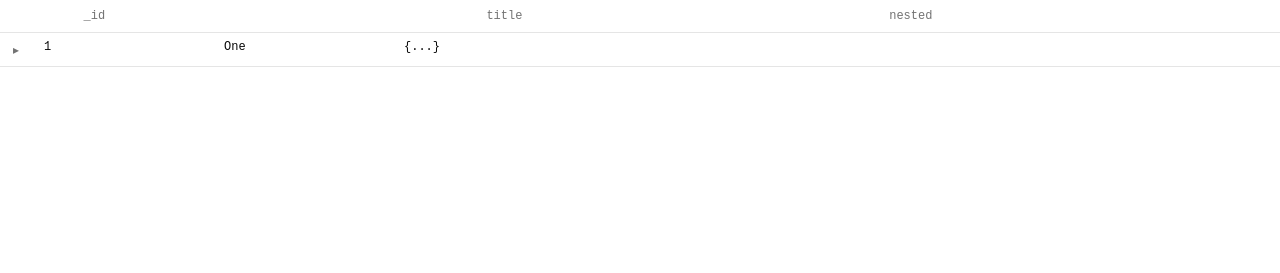
Test: TableView › expands a row to show document details
The width and height of the screenshot is (1280, 273).
What coordinates should you click on to do the following:
click the text "One"
I would click on:
 (235, 47)
Its box is 212,33 -> 392,66.
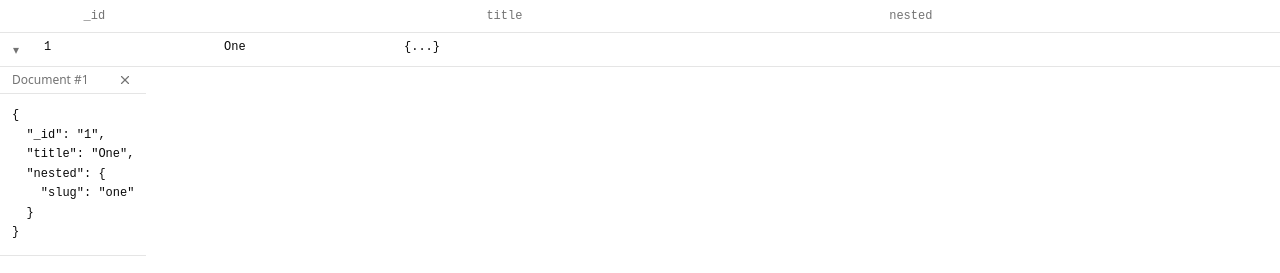
Expected: the text "Document #1" is shown, 12,72 -> 89,88
Expected: the text "{ \"_id\": \"1\", \"title\": \"One\", \"nested\": { \"slug\": \"one\" } }" is shown, 12,108 -> 134,239
